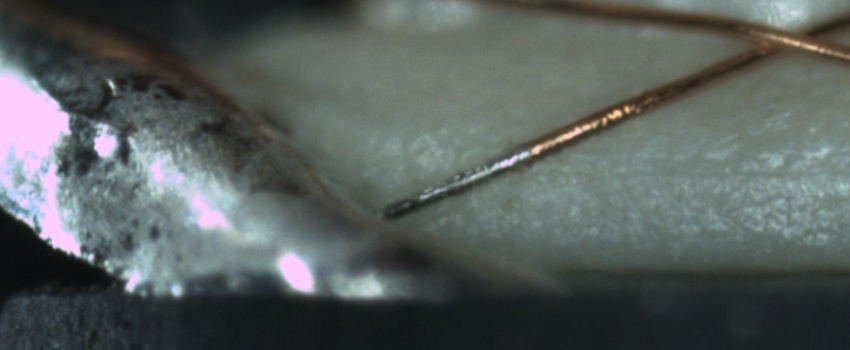CL: (730, 10, 848, 62)
DL: (528, 141, 850, 205)
TS: (375, 142, 533, 222)
